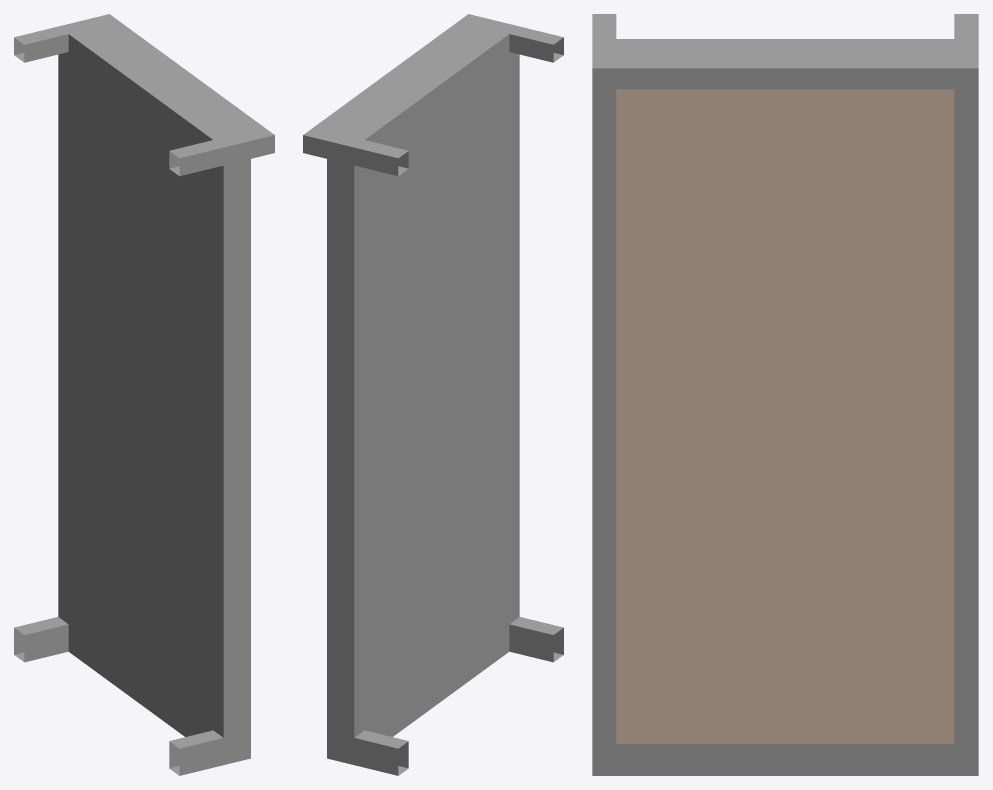
Rendered from entrop_wall_sign_1x1_01_LOD0.fbx.
3 views of the same model, side by side, from view 1: azimuth 30°, elevation 25°; view 2: azimuth 150°, elevation 25°; view 3: azimuth 270°, elevation 25° (orthographic). The views are drawn at different scales.
Visible parts, largest first — view 1: billboard01_LOD0; view 2: billboard01_LOD0; view 3: billboard01_LOD0.
Part boxes in pixels (x1,y1,x2,y2): billboard01_LOD0: (14,14,274,775); billboard01_LOD0: (303,14,563,775); billboard01_LOD0: (592,14,978,775).
Size of the model in its own units: 0.3329 by 2.06 by 1.
